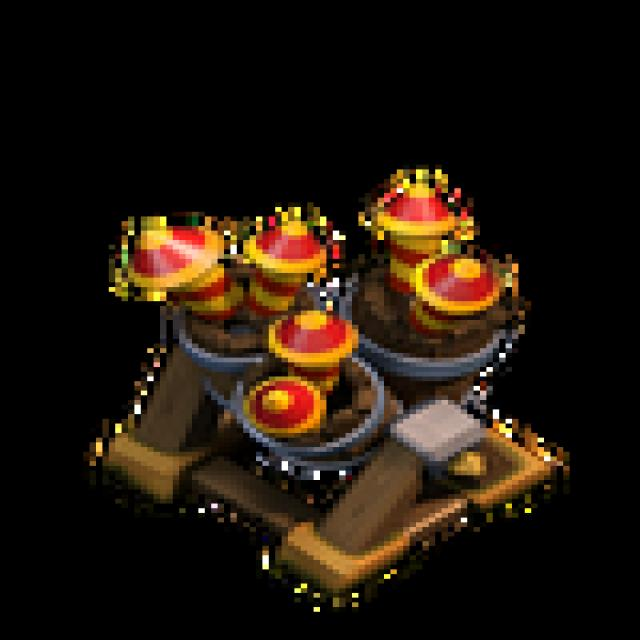air_defense: (56, 151, 581, 614)
